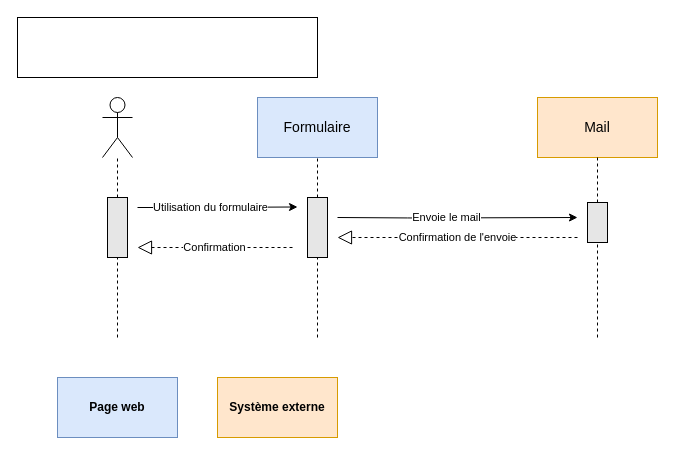
Image size: 675x455. Some labels were removed from this diagram. Each missing label, with the box of its shape:
Formulaire de contact: (16, 16, 318, 78)
Tous les utilisateurs: (102, 96, 132, 158)
